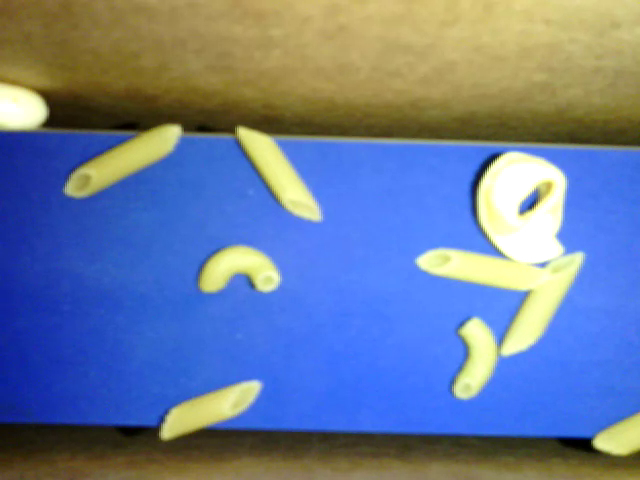elbow: (450, 317, 499, 401), (197, 245, 282, 292)
penne: (62, 123, 181, 200), (500, 251, 583, 356), (235, 126, 322, 223), (158, 379, 262, 441), (416, 247, 552, 292), (592, 411, 639, 458)
tortellini: (476, 151, 565, 265)
